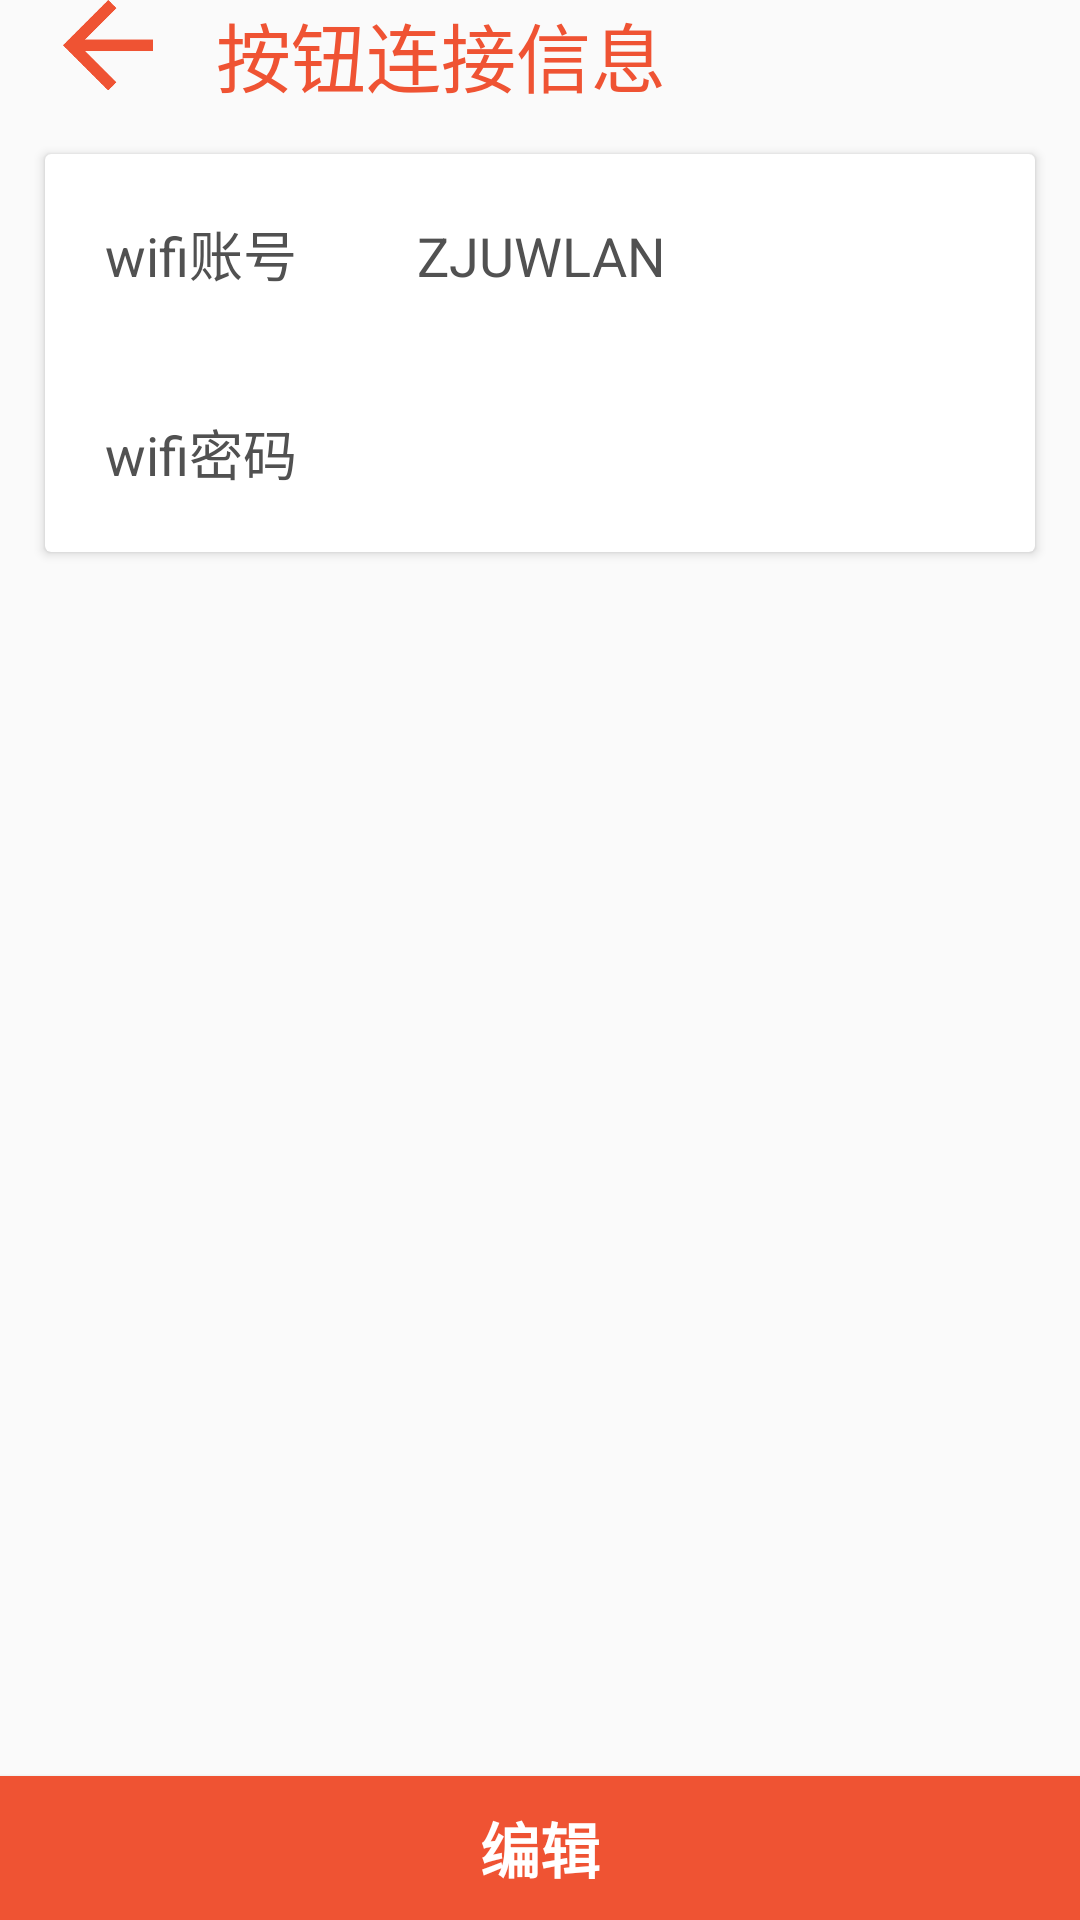

Where icons sit on this 1080*1920 app screen, as detection(x1, y1, x2, y2):
return last: detection(63, 0, 153, 90)
